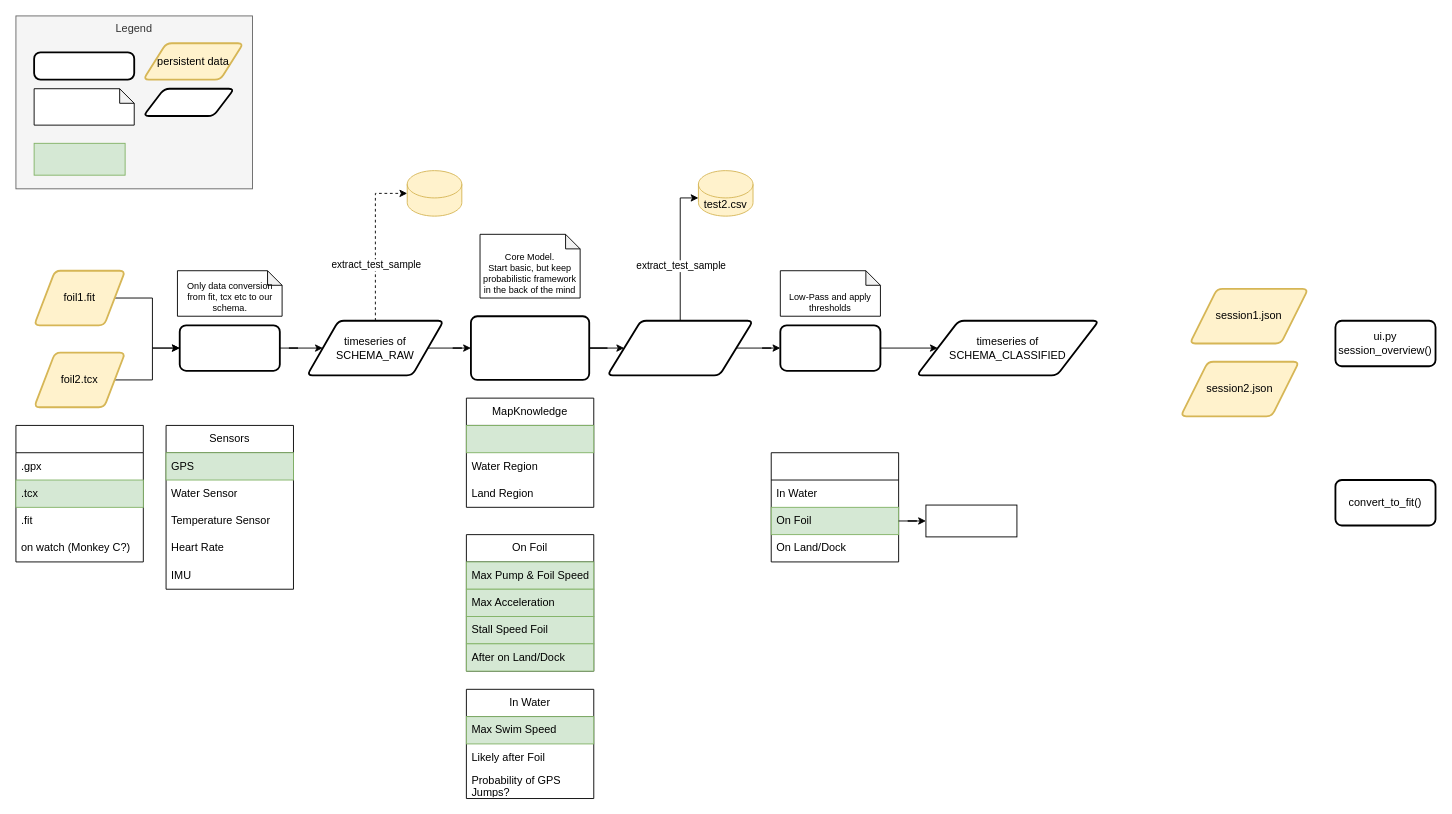
Image size: 1452x814. Some labels were removed from this diagram. Each missing label, with the box of its shape:
Categories: (770, 452, 899, 562)
categorize.py: (779, 324, 881, 371)
data: (142, 87, 235, 116)
File Formats: (15, 425, 143, 562)
High Level Comment: (33, 88, 134, 125)
module: (33, 51, 135, 80)
parse.py: (178, 324, 280, 371)
refine.py reject_outliers() smooth_gps_jumps(): (470, 315, 590, 380)
Scope of v1: (33, 142, 125, 175)
Start , Pump, Surf, Fall: (925, 504, 1017, 537)
Start Locations: (465, 425, 594, 453)
test1.csv: (406, 170, 462, 216)
timeseries of SCHEMA_REFINED: (606, 319, 753, 376)
